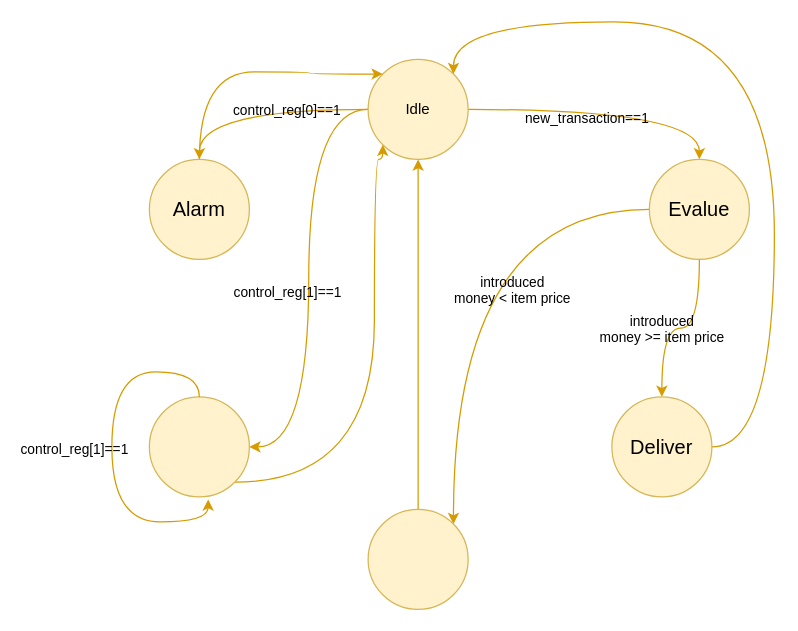
Image size: 798x631. Some labels were removed from this diagram. The box of each missing label's shape, as (x1, y1, x2, y2) in pixels:
Admin: (148, 396, 249, 497)
Error: (367, 508, 468, 609)
